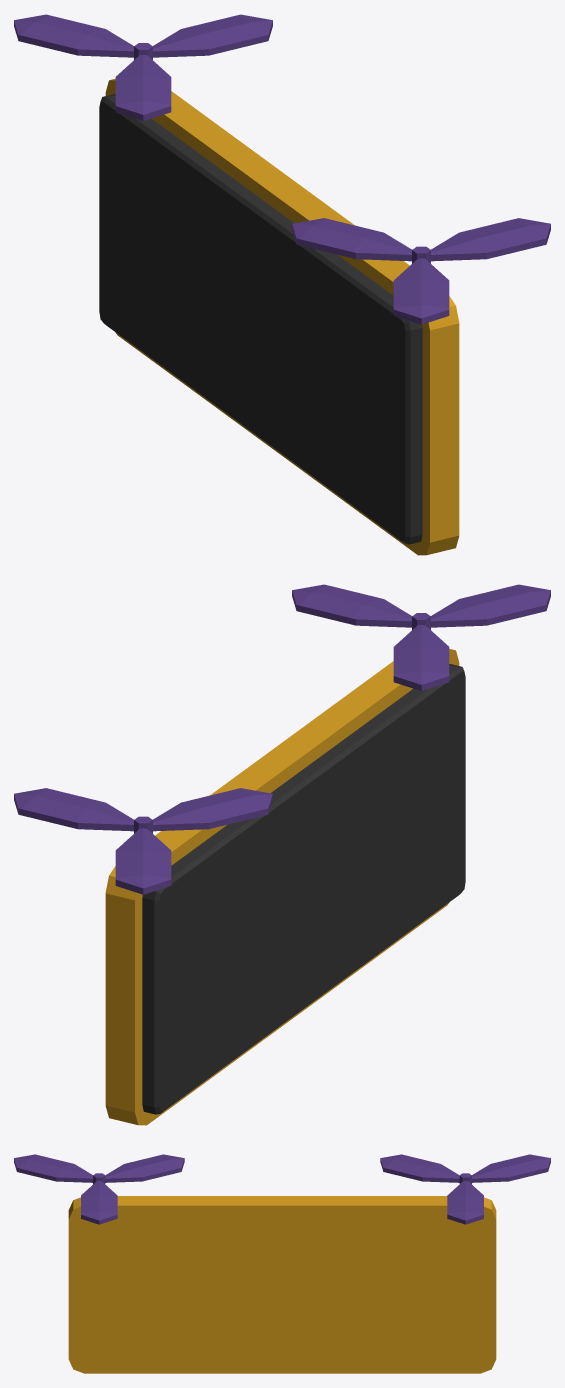
Rendered from ScoreBoard.fbx.
The picture shows the model from 3 angles, top to bottom: view 1: azimuth 30°, elevation 25°; view 2: azimuth 150°, elevation 25°; view 3: azimuth 270°, elevation 25°; orthographic projection. The views are drawn at different scales.
Visible parts, largest first — view 1: ScoreBoard, Cube.012, Cube.013; view 2: ScoreBoard, Cube.013, Cube.012; view 3: ScoreBoard, Cube.012, Cube.013.
Boxes of the visible parts, x1,y1,x2,y2 form: ScoreBoard: (99, 78, 459, 555); Cube.012: (292, 218, 550, 324); Cube.013: (14, 14, 272, 120); ScoreBoard: (105, 648, 465, 1125); Cube.013: (14, 788, 272, 894); Cube.012: (292, 584, 550, 690); ScoreBoard: (68, 1196, 496, 1373); Cube.012: (14, 1154, 184, 1224); Cube.013: (380, 1154, 550, 1224).
Size of the model in its own units: 1172 by 342 by 466.
